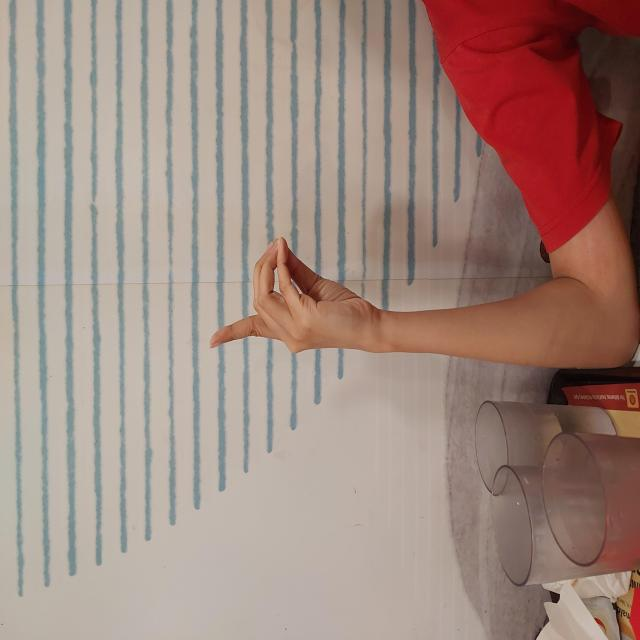D: (283, 207, 405, 380)
